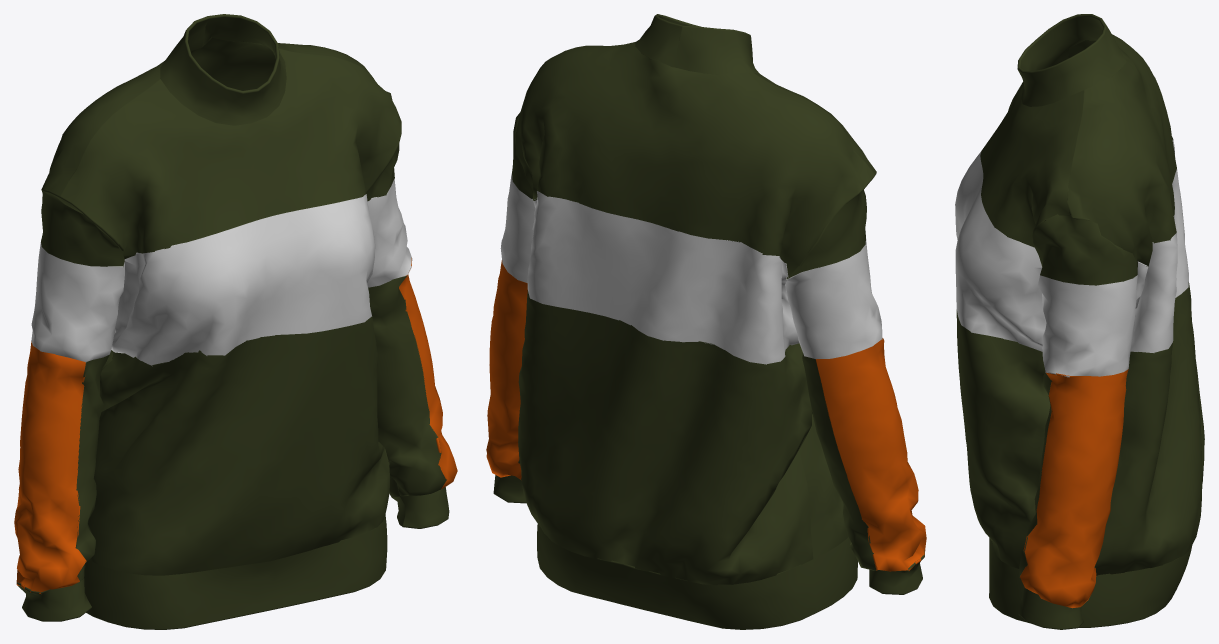
3 renders of one model, left to right at view 1: azimuth 30°, elevation 25°; view 2: azimuth 150°, elevation 25°; view 3: azimuth 270°, elevation 25°, orthographic. The views are drawn at different scales.
Visible parts, largest first — view 1: Pattern2D_3692580, Pattern2D_3627920, Pattern2D_3628178, Pattern2D_3817910, Pattern2D_3648941, Pattern2D_3741299, Pattern2D_3637876, Pattern2D_3739184, Pattern2D_3634939, Pattern2D_3630701, Pattern2D_3648891, Pattern2D_3638224 (+4 smaller); view 2: Pattern2D_3692761, Pattern2D_3634939, Pattern2D_3635177, Pattern2D_3817910, Pattern2D_3648941, Pattern2D_3637876, Pattern2D_3741476, Pattern2D_3739184, Pattern2D_3648309, Pattern2D_3692580, Pattern2D_3630701, Pattern2D_3638224 (+3 smaller); view 3: Pattern2D_3692761, Pattern2D_3741476, Pattern2D_3634939, Pattern2D_3692580, Pattern2D_3627920, Pattern2D_3628178, Pattern2D_3638224, Pattern2D_3739184, Pattern2D_3817910, Pattern2D_3631058, Pattern2D_3635177, Pattern2D_3742323 (+1 smaller).
Part boxes in pixels (x1=…): Pattern2D_3692580: x1=88, y1=316, x2=390, y2=575; Pattern2D_3627920: x1=60, y1=49, x2=401, y2=258; Pattern2D_3628178: x1=111, y1=194, x2=375, y2=366; Pattern2D_3817910: x1=84, y1=514, x2=387, y2=629; Pattern2D_3648941: x1=14, y1=341, x2=86, y2=593; Pattern2D_3741299: x1=368, y1=275, x2=446, y2=496; Pattern2D_3637876: x1=31, y1=242, x2=124, y2=362; Pattern2D_3739184: x1=160, y1=14, x2=286, y2=125; Pattern2D_3634939: x1=41, y1=37, x2=392, y2=195; Pattern2D_3630701: x1=41, y1=188, x2=124, y2=266; Pattern2D_3648891: x1=75, y1=355, x2=109, y2=581; Pattern2D_3638224: x1=367, y1=178, x2=412, y2=287; Pattern2D_3692761: x1=518, y1=290, x2=813, y2=585; Pattern2D_3634939: x1=515, y1=42, x2=874, y2=276; Pattern2D_3635177: x1=527, y1=191, x2=799, y2=364; Pattern2D_3817910: x1=537, y1=524, x2=857, y2=629; Pattern2D_3648941: x1=815, y1=338, x2=926, y2=571; Pattern2D_3637876: x1=785, y1=239, x2=882, y2=358; Pattern2D_3741476: x1=486, y1=260, x2=527, y2=479; Pattern2D_3739184: x1=635, y1=14, x2=759, y2=74; Pattern2D_3648309: x1=802, y1=352, x2=877, y2=570; Pattern2D_3692580: x1=799, y1=347, x2=848, y2=558; Pattern2D_3630701: x1=786, y1=172, x2=876, y2=278; Pattern2D_3638224: x1=500, y1=173, x2=535, y2=282; Pattern2D_3692761: x1=1095, y1=282, x2=1204, y2=575; Pattern2D_3741476: x1=1020, y1=369, x2=1128, y2=608; Pattern2D_3634939: x1=1067, y1=34, x2=1176, y2=269; Pattern2D_3692580: x1=956, y1=309, x2=1050, y2=568; Pattern2D_3627920: x1=980, y1=40, x2=1084, y2=255; Pattern2D_3628178: x1=955, y1=151, x2=1045, y2=351; Pattern2D_3638224: x1=1037, y1=275, x2=1137, y2=377; Pattern2D_3739184: x1=1017, y1=14, x2=1126, y2=106; Pattern2D_3817910: x1=989, y1=538, x2=1192, y2=627; Pattern2D_3631058: x1=1032, y1=214, x2=1137, y2=285; Pattern2D_3635177: x1=1130, y1=139, x2=1188, y2=353; Pattern2D_3742323: x1=1018, y1=587, x2=1083, y2=629.
Size of the model in its own units: 57.54 by 71.74 by 30.17.
